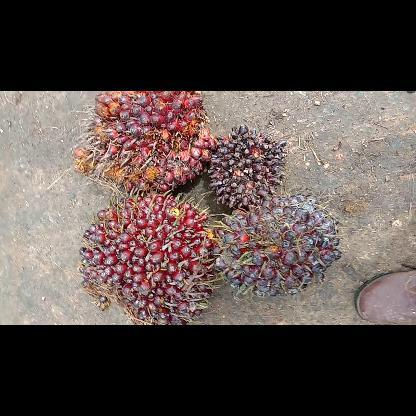Kurang masak: (78, 196, 218, 324), (208, 192, 344, 298)
TBS abnormal: (205, 120, 289, 209)
TBS masak: (73, 90, 217, 196)
